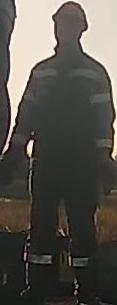gloves: (0, 138, 30, 186), (97, 143, 117, 198)
helmet: (51, 0, 89, 37)
vest: (21, 57, 108, 172)
